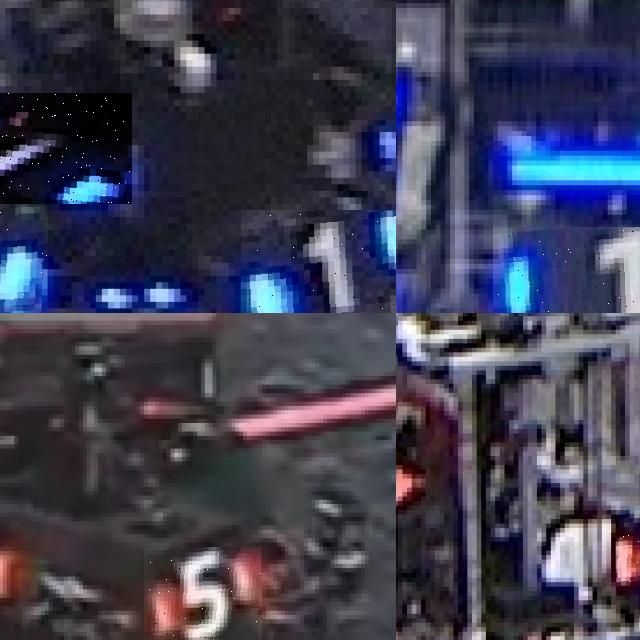B1: (241, 210, 396, 313), (0, 93, 132, 204), (493, 227, 640, 313), (0, 184, 47, 313)
R2: (616, 510, 640, 595)
R5: (144, 546, 262, 640)
